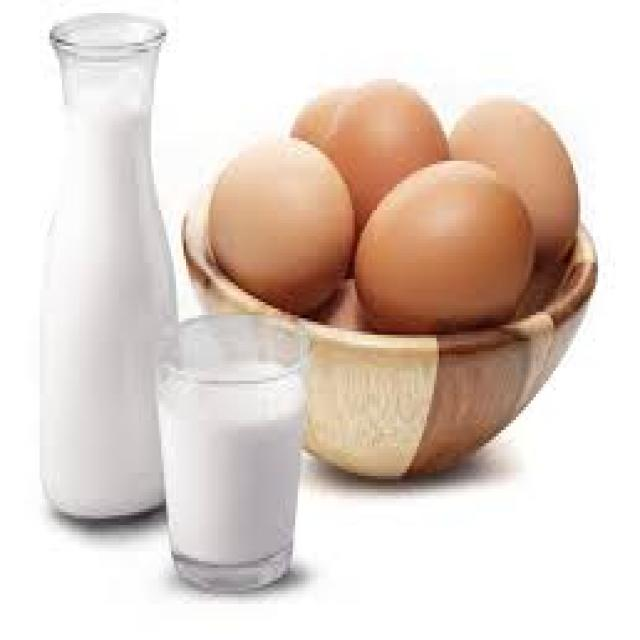Milk carton/jug: (42, 95, 183, 531), (154, 358, 306, 572)
